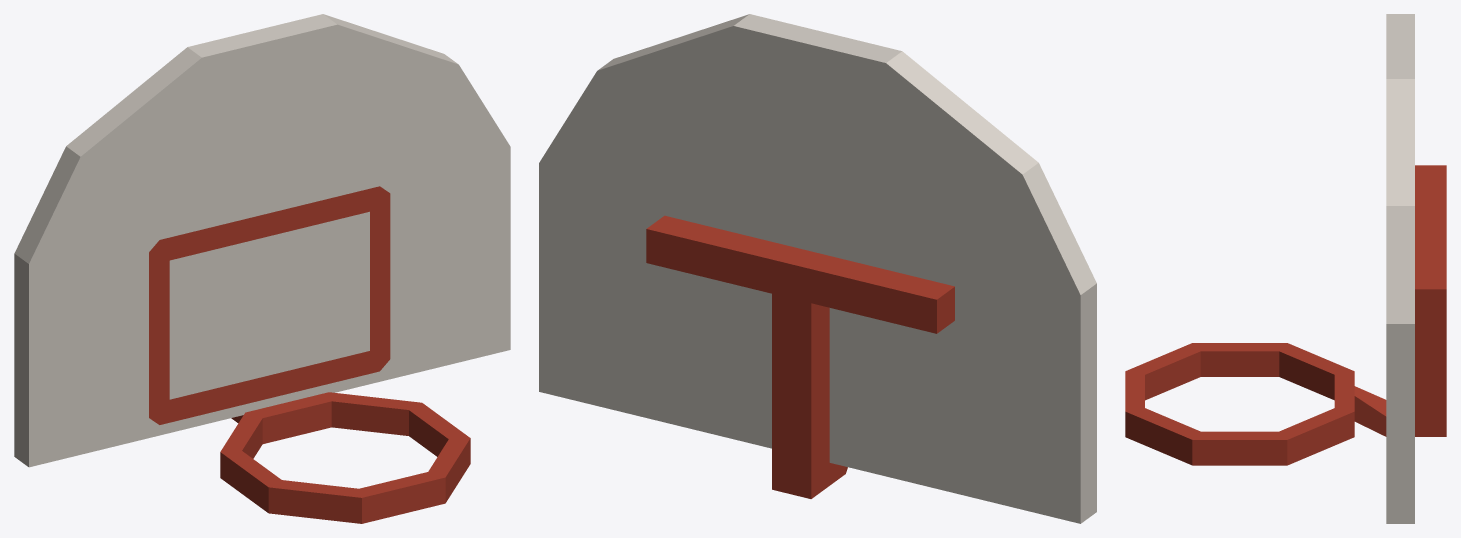
Rendered from SM_Prop_Hoop_01.fbx.
3 views of the same model, side by side, from view 1: azimuth 30°, elevation 25°; view 2: azimuth 150°, elevation 25°; view 3: azimuth 270°, elevation 25° (orthographic). The views are drawn at different scales.
Visible parts, largest first — view 1: SM_Prop_Hoop_01; view 2: SM_Prop_Hoop_01; view 3: SM_Prop_Hoop_01.
Part boxes in pixels (box(x1,y1,x2,y2)): SM_Prop_Hoop_01: box(14, 14, 510, 523); SM_Prop_Hoop_01: box(539, 14, 1096, 523); SM_Prop_Hoop_01: box(1125, 14, 1446, 523).
Size of the model in its own units: 124 by 95.47 by 72.81.
